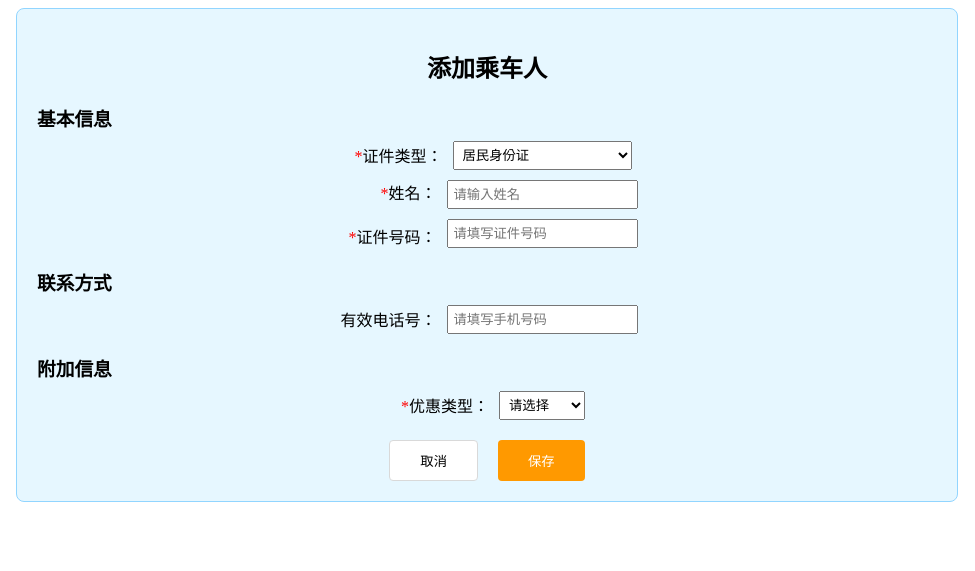
PassengerForm Component › 5.1.10.1 & 5.1.10.6: Add mode - Validation messages for empty fields
The image size is (975, 571).
Note: Click submit without filling anything
Click the button "保存" at point(541, 460), box [498, 440, 585, 481]
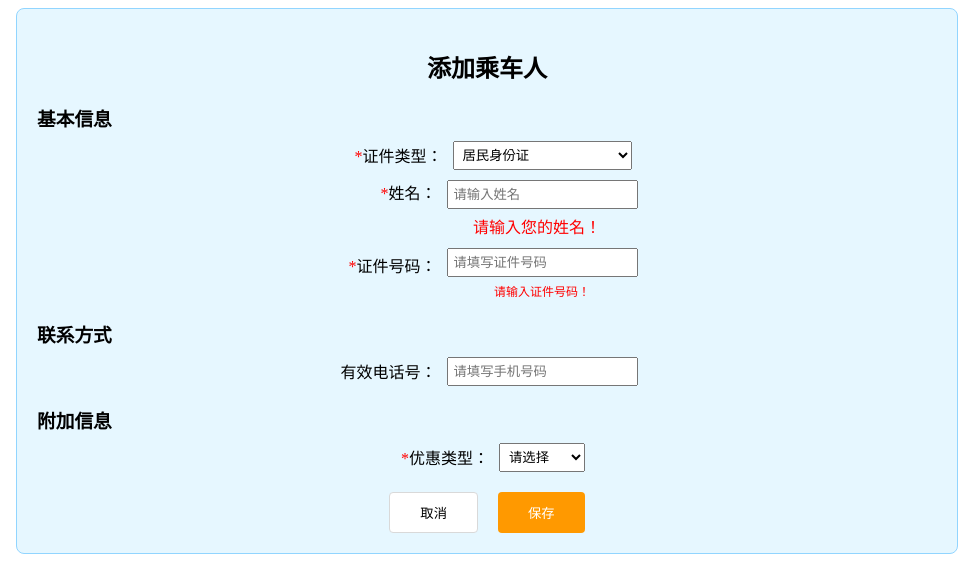
Now the text "请输入您的姓名！" is shown, box [473, 219, 601, 236]
Now the text "请输入证件号码！" is shown, box [494, 285, 590, 299]
